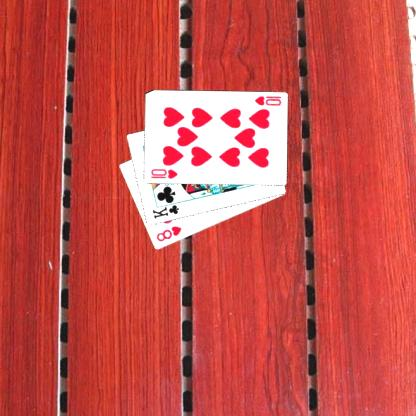10H: (148, 166, 178, 180), (252, 94, 282, 108)
8H: (154, 223, 182, 243)
KC: (150, 199, 181, 220)
